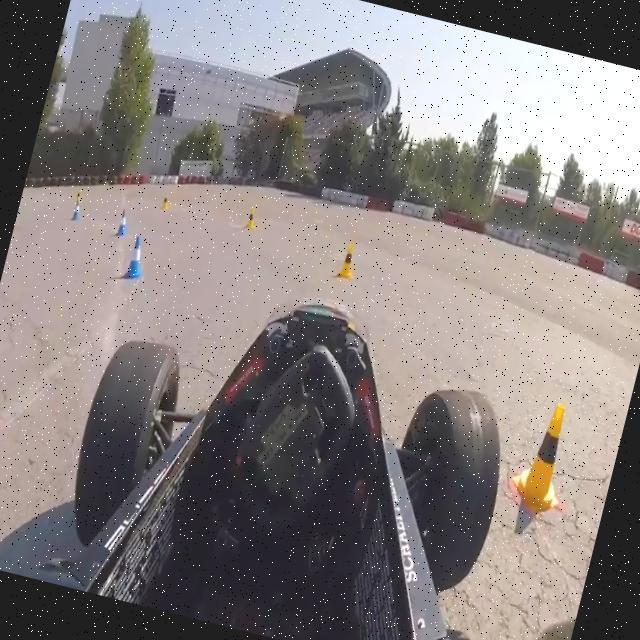blue_cone: (120, 234, 151, 287), (0, 342, 13, 467), (114, 208, 132, 240), (70, 200, 84, 222), (15, 198, 22, 218)
yellow_cone: (508, 402, 580, 514), (335, 242, 358, 282), (243, 205, 260, 232), (159, 193, 170, 213), (74, 188, 82, 206)
